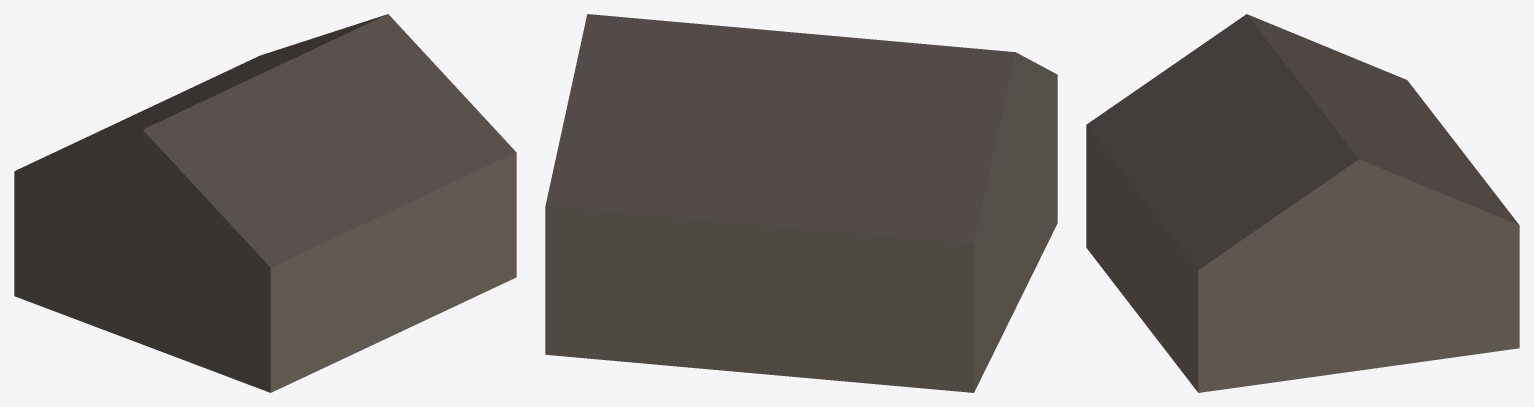
3 views of the same model, side by side, from view 1: azimuth 30°, elevation 25°; view 2: azimuth 150°, elevation 25°; view 3: azimuth 270°, elevation 25° (orthographic). The views are drawn at different scales.
Parts seen in each view (by area): view 1: HP-w859082509; view 2: HP-w859082509; view 3: HP-w859082509.
Boxes of the visible parts, x1,y1,x2,y2 form: HP-w859082509: [14, 14, 516, 392]; HP-w859082509: [545, 14, 1057, 392]; HP-w859082509: [1086, 14, 1519, 392].
Size of the model in its own units: 19.89 by 10.32 by 19.17.
